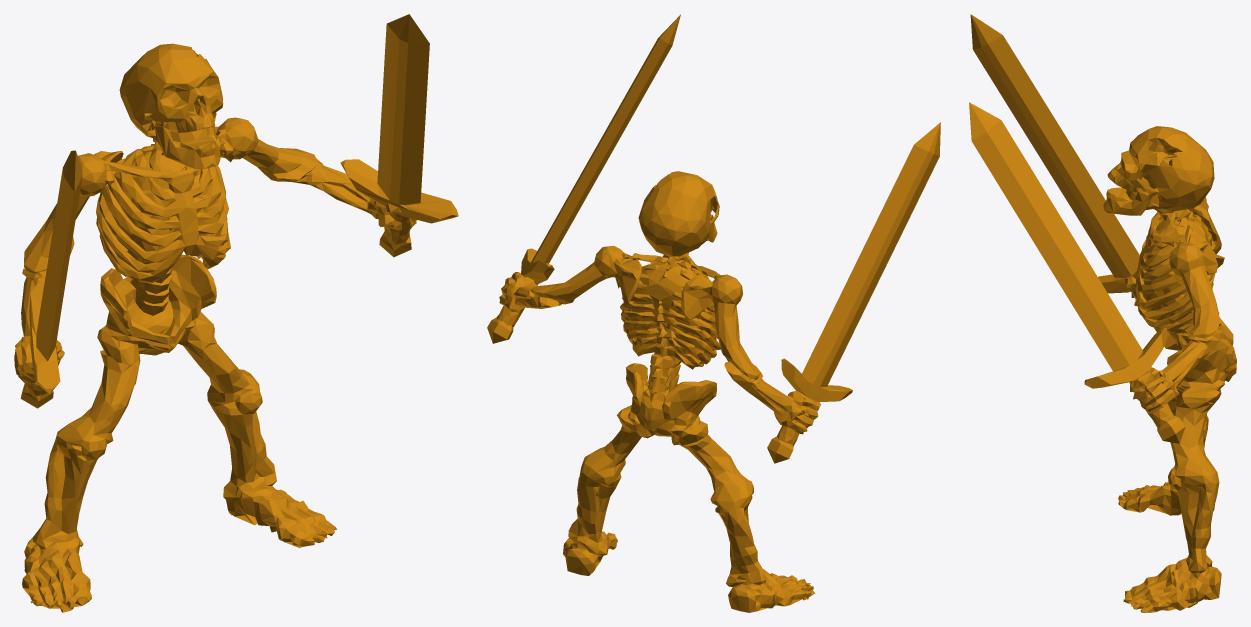
The model's file is skeleton.obj.
The picture shows the model from 3 angles, left to right: view 1: azimuth 30°, elevation 25°; view 2: azimuth 150°, elevation 25°; view 3: azimuth 270°, elevation 25°; orthographic projection. The views are drawn at different scales.
Parts seen in each view (by area): view 1: skeleton; view 2: skeleton; view 3: skeleton.
Part boxes in pixels (x1=…): skeleton: x1=14, y1=14, x2=458, y2=612; skeleton: x1=487, y1=14, x2=940, y2=612; skeleton: x1=969, y1=14, x2=1236, y2=612.
Size of the model in its own units: 3.41 by 4.3 by 2.08.
